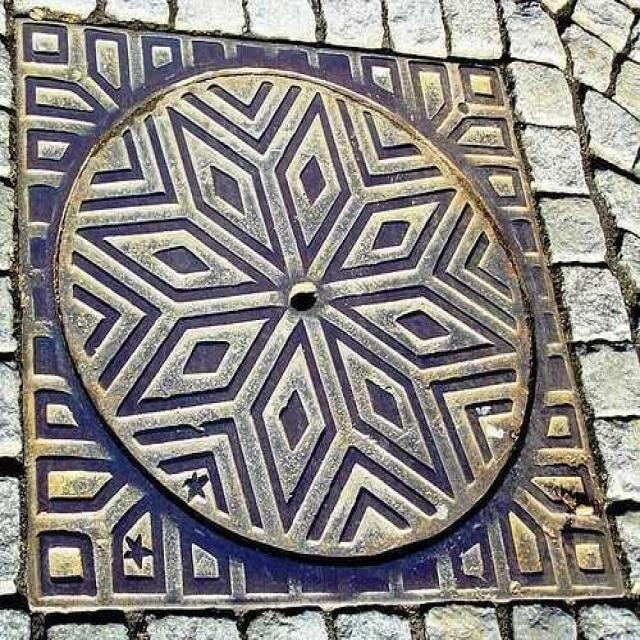manhole: (58, 69, 530, 556)
